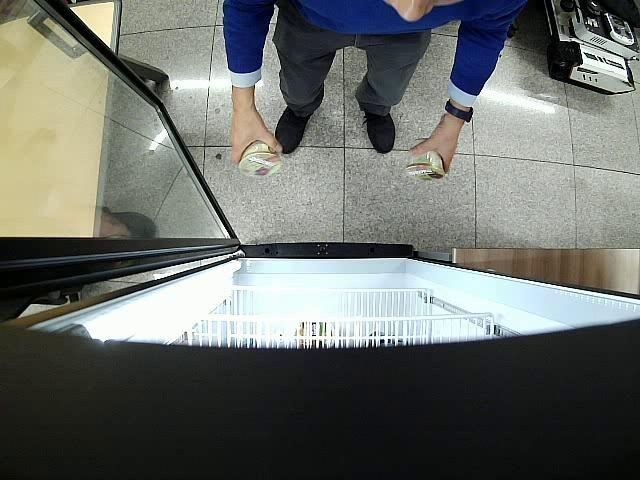04_chapagetti_S: (238, 139, 282, 180), (406, 138, 446, 182)
